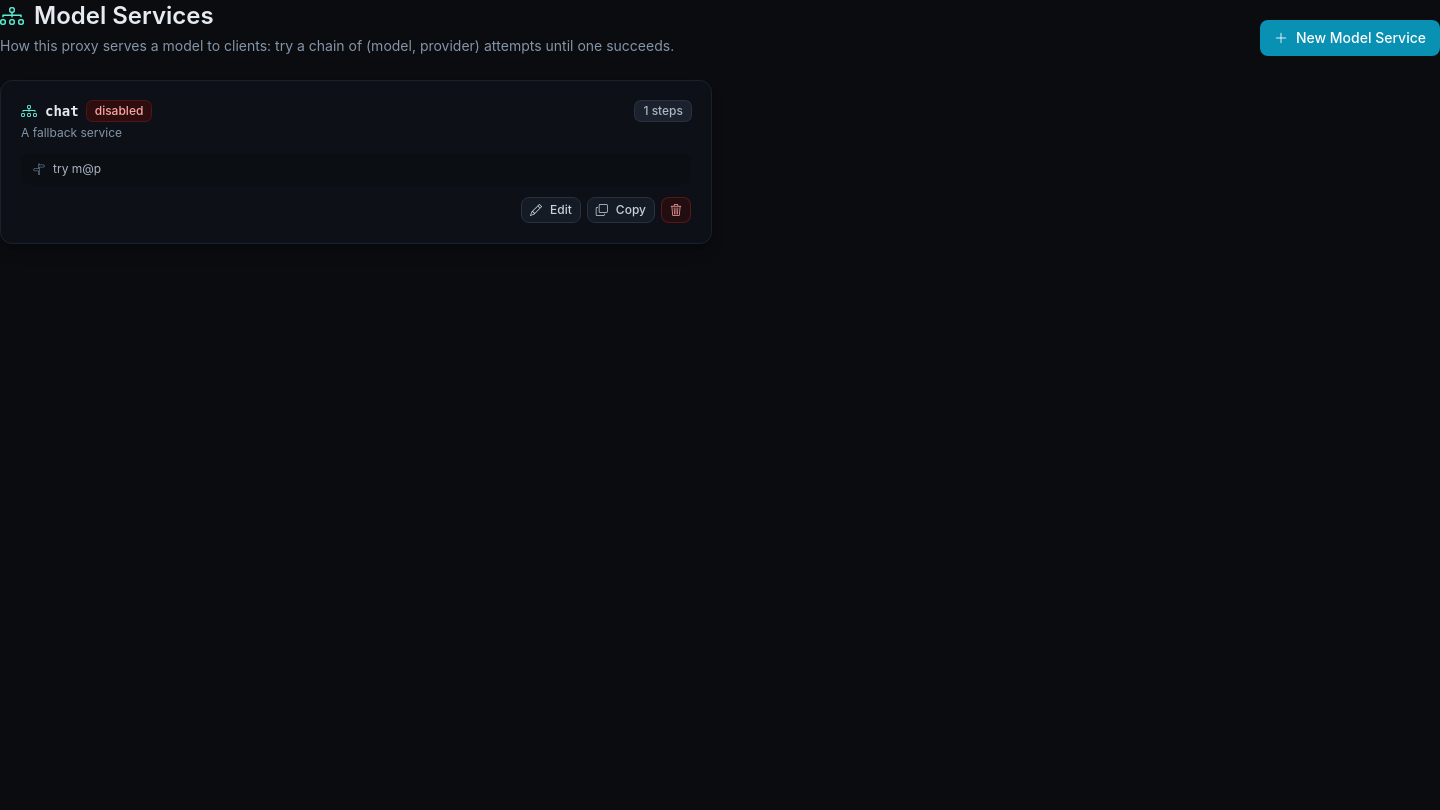
Model Service and Micro Agent copies › cancels without creating anything
Click the button "Copy" at (621, 210), box top-left (587, 197), bottom-right (655, 223)
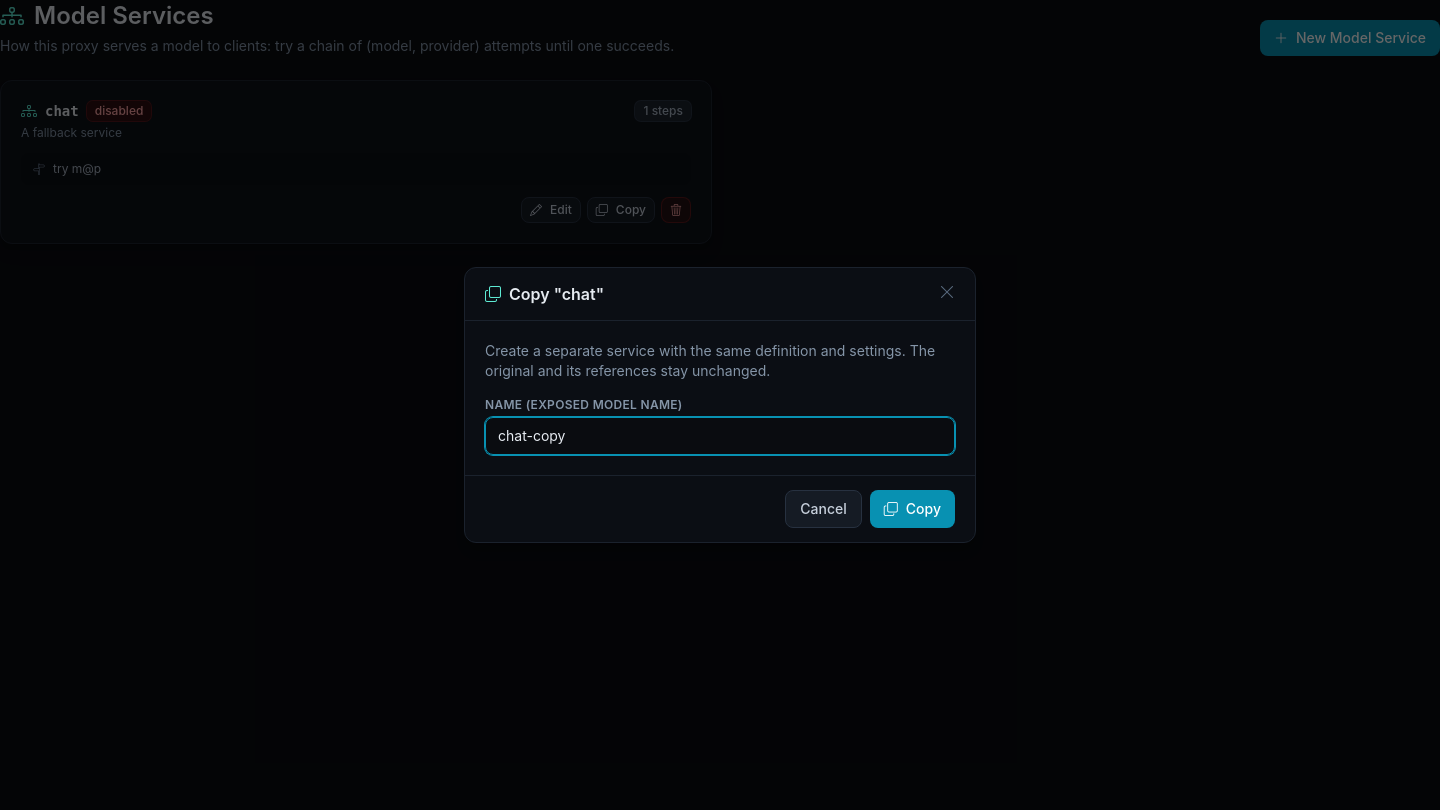
Click the button "Cancel" at (824, 509), box top-left (785, 490), bottom-right (862, 528)
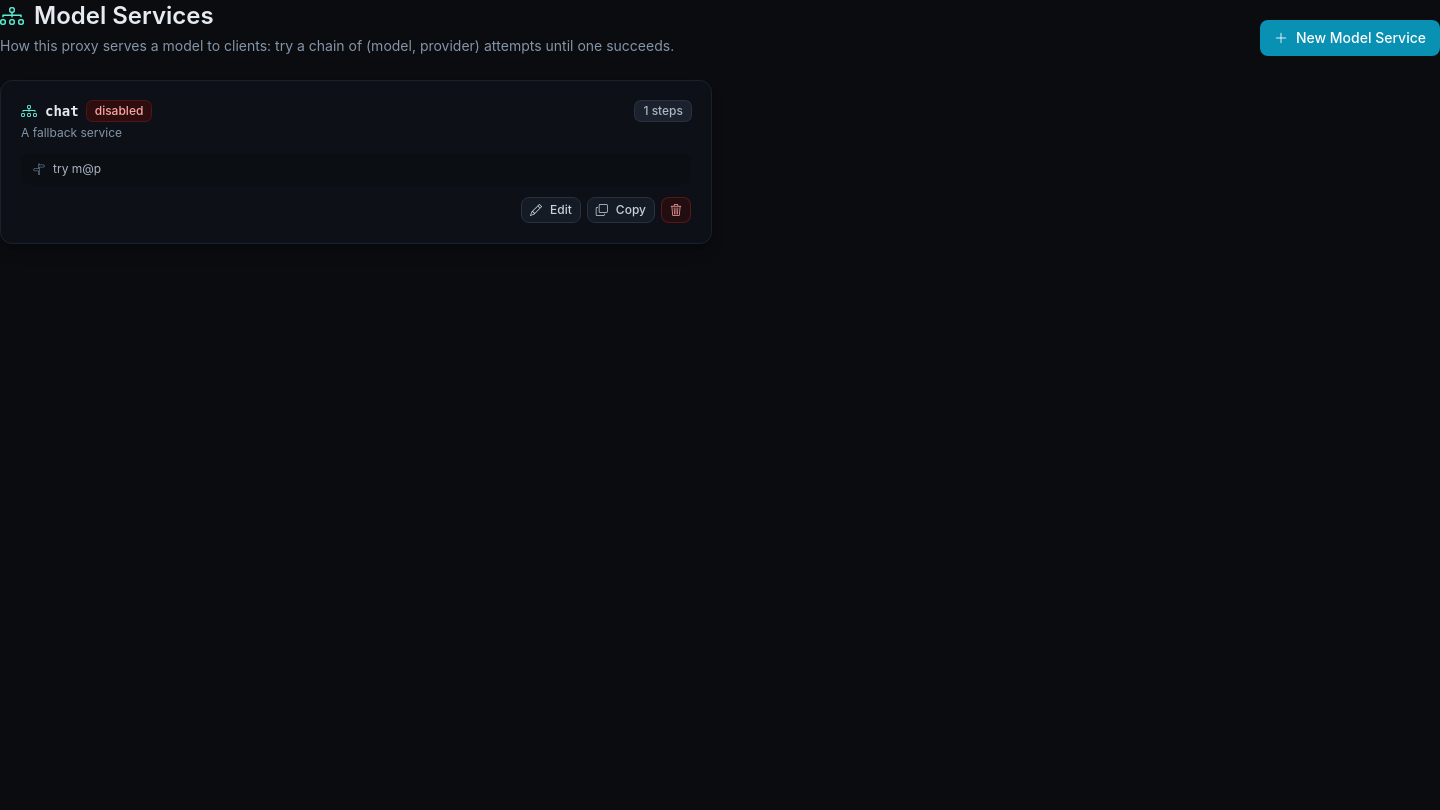
Check: the heading "Copy \"chat\"" is gone
